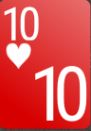Heart: (6, 43, 31, 69)
